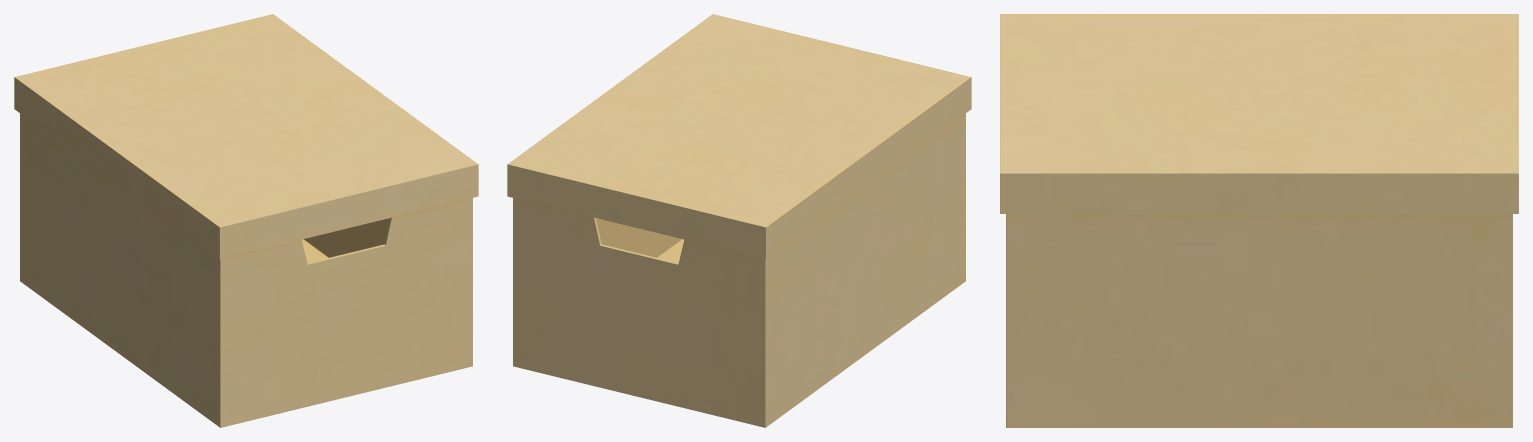
Rendered from st_storage_box.gltf.
The picture shows the model from 3 angles, left to right: view 1: azimuth 30°, elevation 25°; view 2: azimuth 150°, elevation 25°; view 3: azimuth 270°, elevation 25°; orthographic projection. The views are drawn at different scales.
Visible parts, largest first — view 1: storage_box_01, storage_box_01.001; view 2: storage_box_01, storage_box_01.001; view 3: storage_box_01, storage_box_01.001.
Boxes of the visible parts, box(x1,y1,x2,y2) form: storage_box_01: box(20, 113, 472, 427); storage_box_01.001: box(14, 14, 478, 259); storage_box_01: box(513, 113, 965, 427); storage_box_01.001: box(507, 14, 971, 259); storage_box_01: box(1006, 214, 1512, 427); storage_box_01.001: box(1000, 14, 1518, 213).
Size of the model in its own units: 0.2544 by 0.1908 by 0.3497.
Materials: 1 (1 with a texture image).
